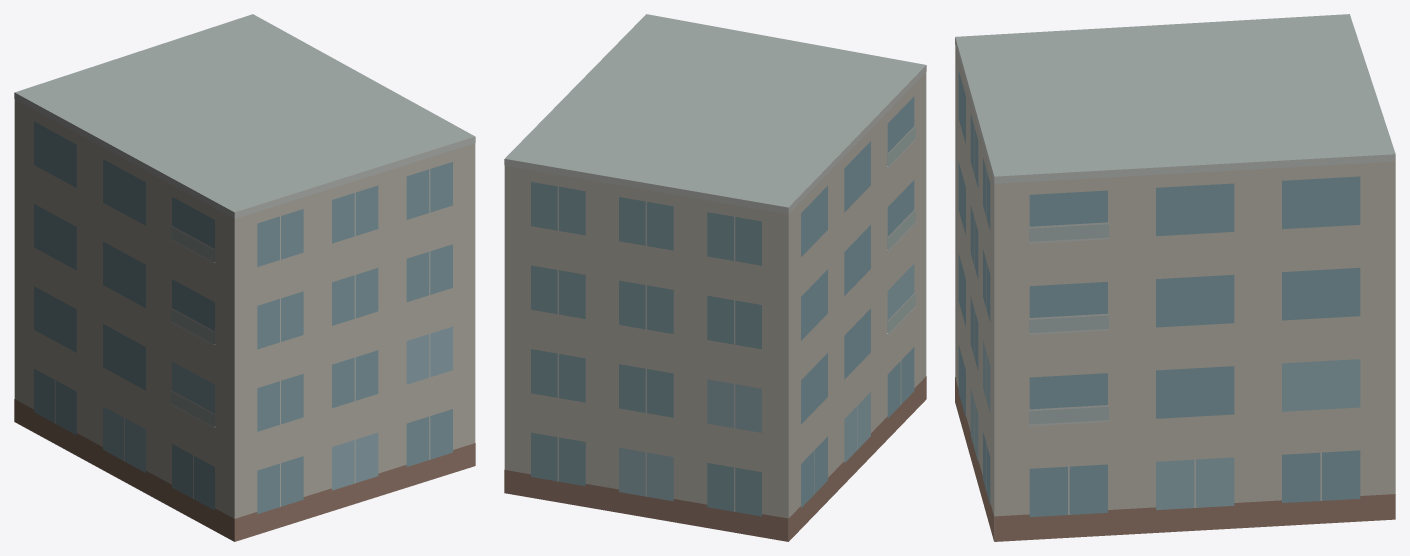
The model's file is survey-upis-32847361.glb.
The picture shows the model from 3 angles, left to right: view 1: azimuth 30°, elevation 25°; view 2: azimuth 150°, elevation 25°; view 3: azimuth 270°, elevation 25°; orthographic projection. The views are drawn at different scales.
Visible parts, largest first — view 1: survey-upis-32847361.tmp; view 2: survey-upis-32847361.tmp; view 3: survey-upis-32847361.tmp.
Part boxes in pixels (<box>): survey-upis-32847361.tmp: <box>14,14,475,541</box>; survey-upis-32847361.tmp: <box>504,14,926,541</box>; survey-upis-32847361.tmp: <box>955,14,1395,541</box>.
Bounding box in the file's own units: 11.66 × 12.2 × 13.35.
